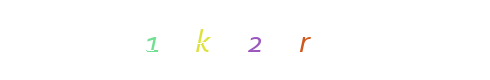1: (112, 0, 192, 80)
2: (205, 0, 285, 80)
K: (197, 0, 277, 80)
R: (215, 0, 295, 80)
